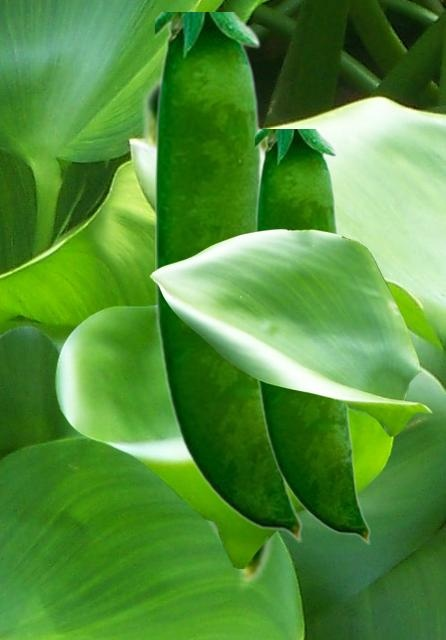pea: (155, 12, 301, 541), (138, 68, 280, 593), (255, 129, 369, 543)
